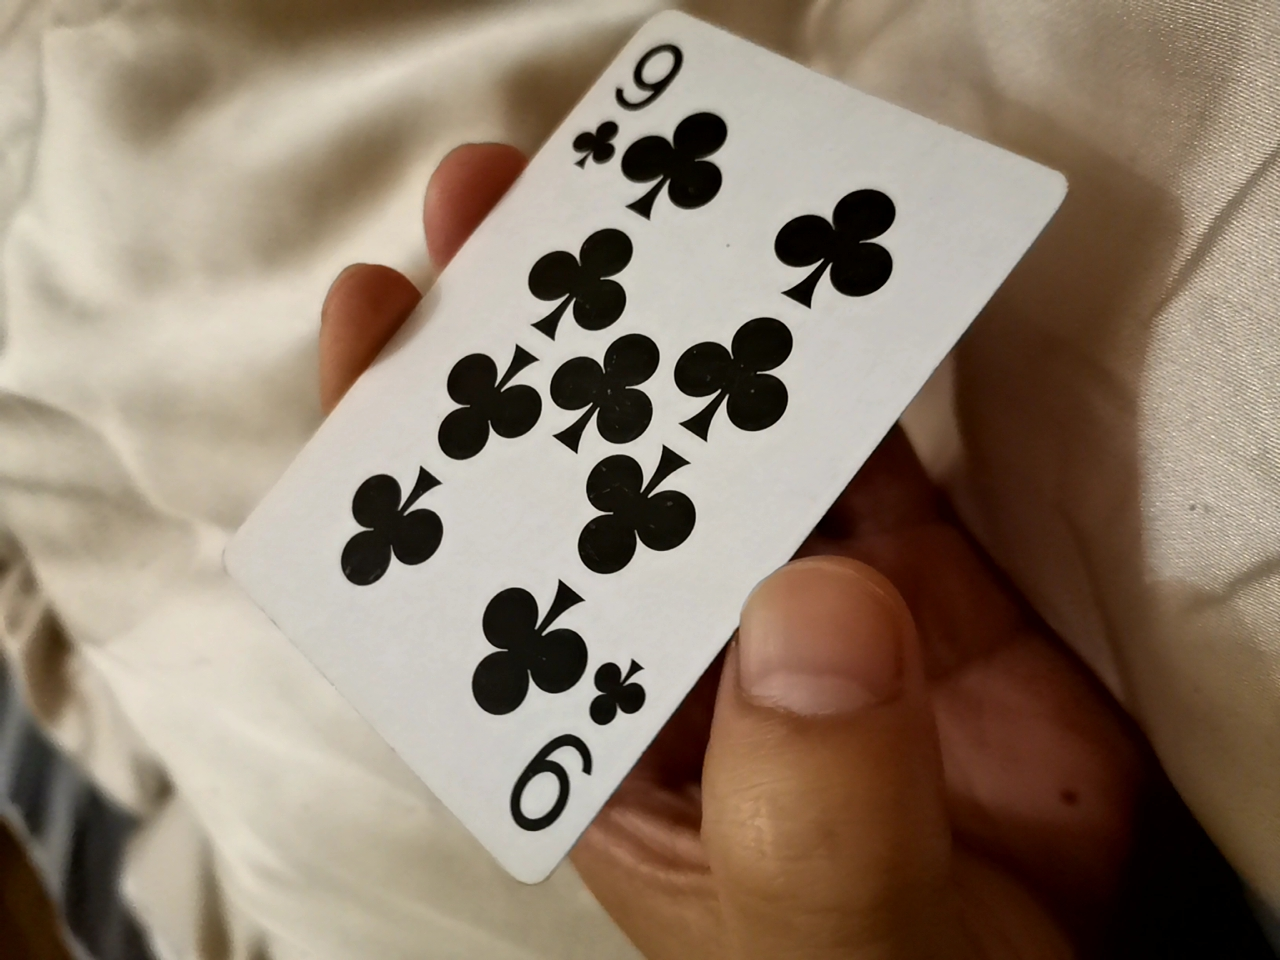mh 9: (208, 11, 1041, 896)
